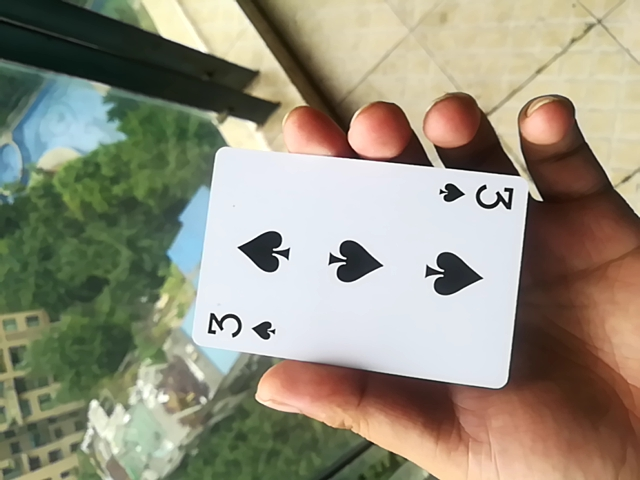ht 3: (184, 138, 533, 396)
